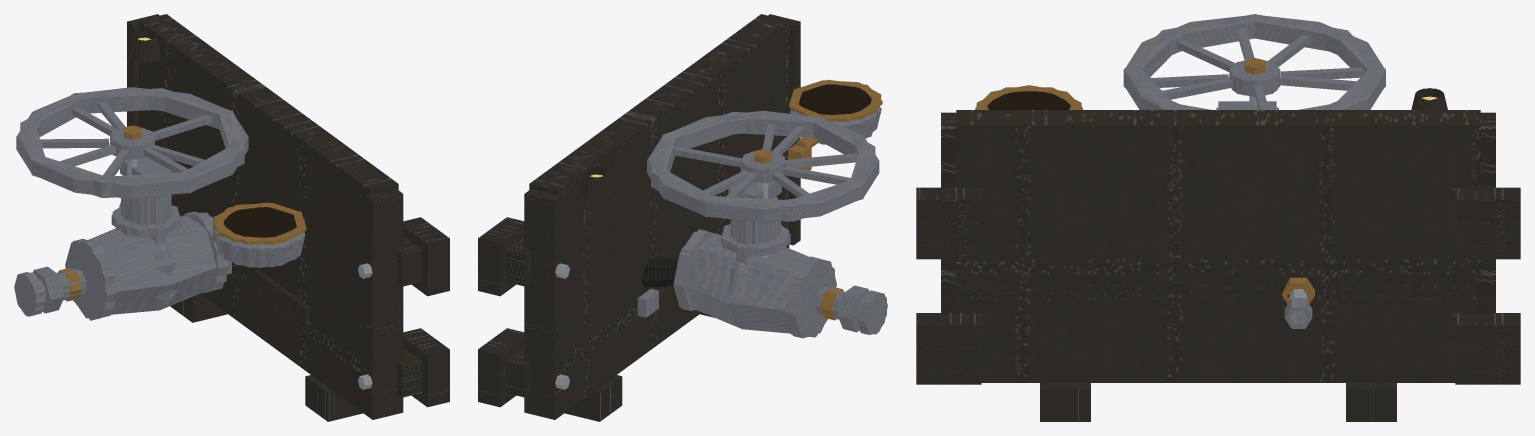
The model's file is gas_tap.glb.
The picture shows the model from 3 angles, left to right: view 1: azimuth 30°, elevation 25°; view 2: azimuth 150°, elevation 25°; view 3: azimuth 270°, elevation 25°; orthographic projection. The views are drawn at different scales.
Parts seen in each view (by area): view 1: LOD0_gas_tap, LOD1_gas_tap, LOD0_valve_wheel, LOD2_gas_tap, LOD1_valve_wheel; view 2: LOD0_gas_tap, LOD1_gas_tap, LOD0_valve_wheel, LOD2_gas_tap, LOD1_valve_wheel; view 3: LOD1_gas_tap, LOD0_gas_tap, LOD0_valve_wheel, LOD1_valve_wheel.
Part boxes in pixels (x1,y1,x2,y2): LOD0_gas_tap: (14, 15, 448, 421); LOD1_gas_tap: (14, 14, 449, 419); LOD0_valve_wheel: (16, 87, 248, 199); LOD2_gas_tap: (32, 30, 300, 314); LOD1_valve_wheel: (20, 88, 244, 197); LOD0_gas_tap: (479, 15, 887, 421); LOD1_gas_tap: (478, 14, 886, 419); LOD0_valve_wheel: (647, 110, 879, 222); LOD2_gas_tap: (581, 84, 869, 333); LOD1_valve_wheel: (651, 112, 875, 221); LOD1_gas_tap: (916, 87, 1520, 384); LOD0_gas_tap: (918, 85, 1518, 421); LOD0_valve_wheel: (1123, 14, 1385, 109); LOD1_valve_wheel: (1123, 14, 1385, 109).
Size of the model in its own units: 1.05 by 0.9 by 1.66.
3 materials, 3 textured.
